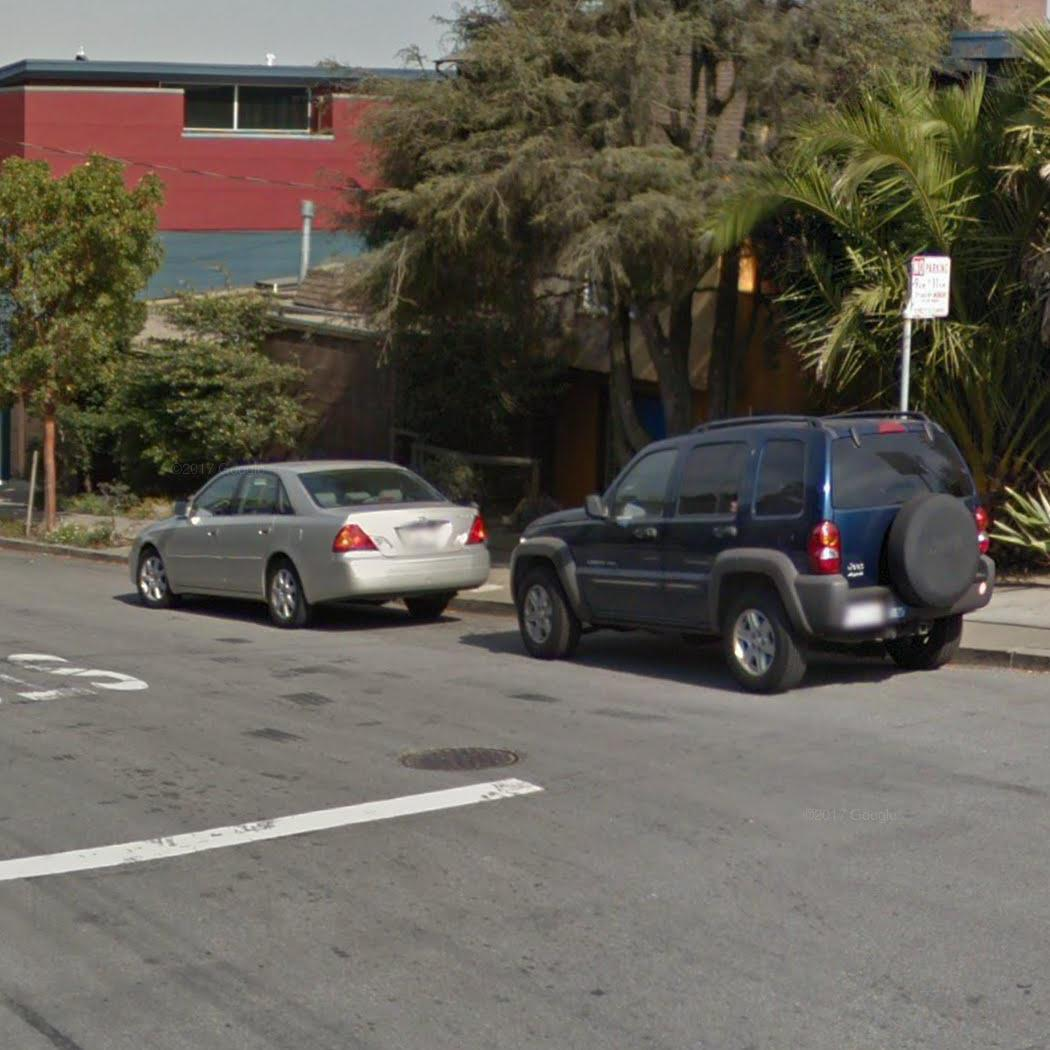No Parking: (903, 250, 957, 324)
